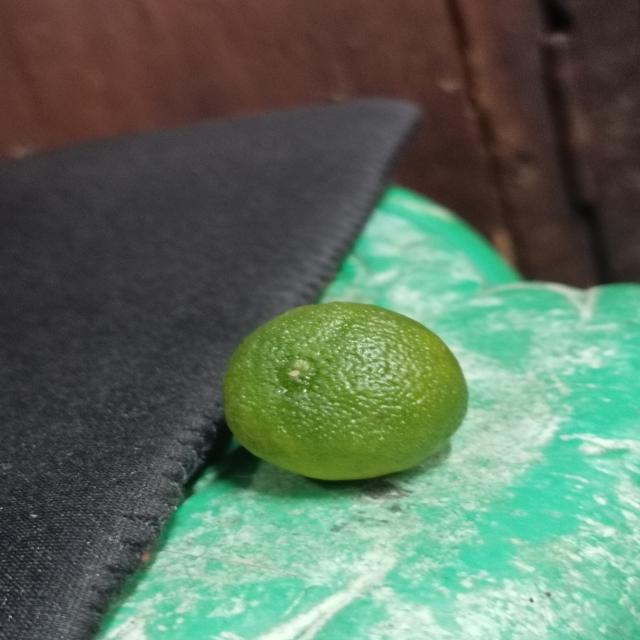heathy: (216, 296, 472, 479)
